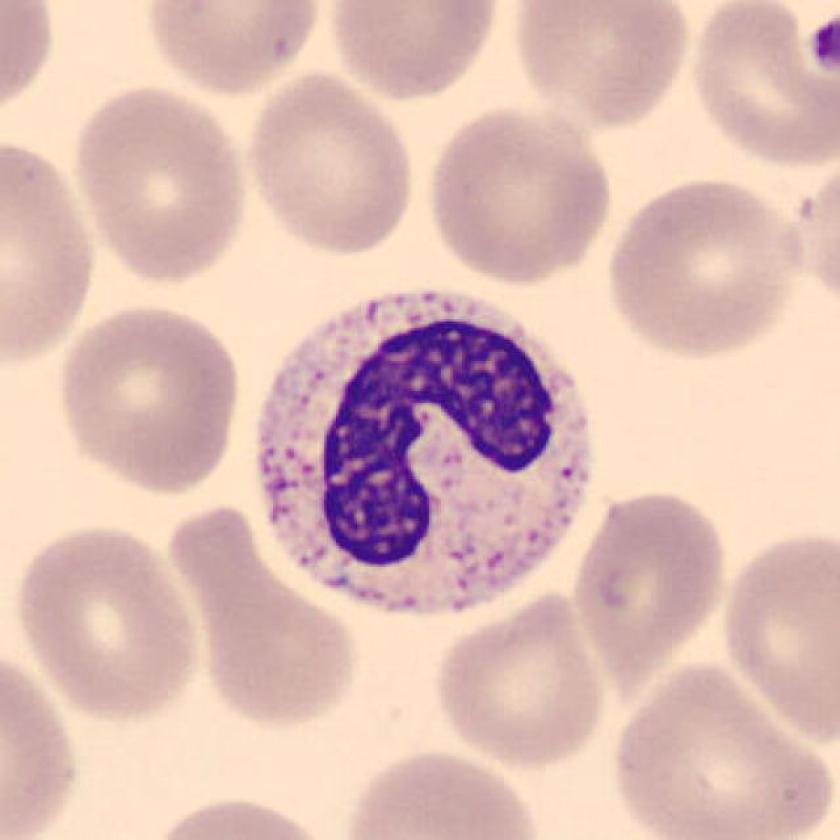neutrophil: (254, 291, 593, 613)
